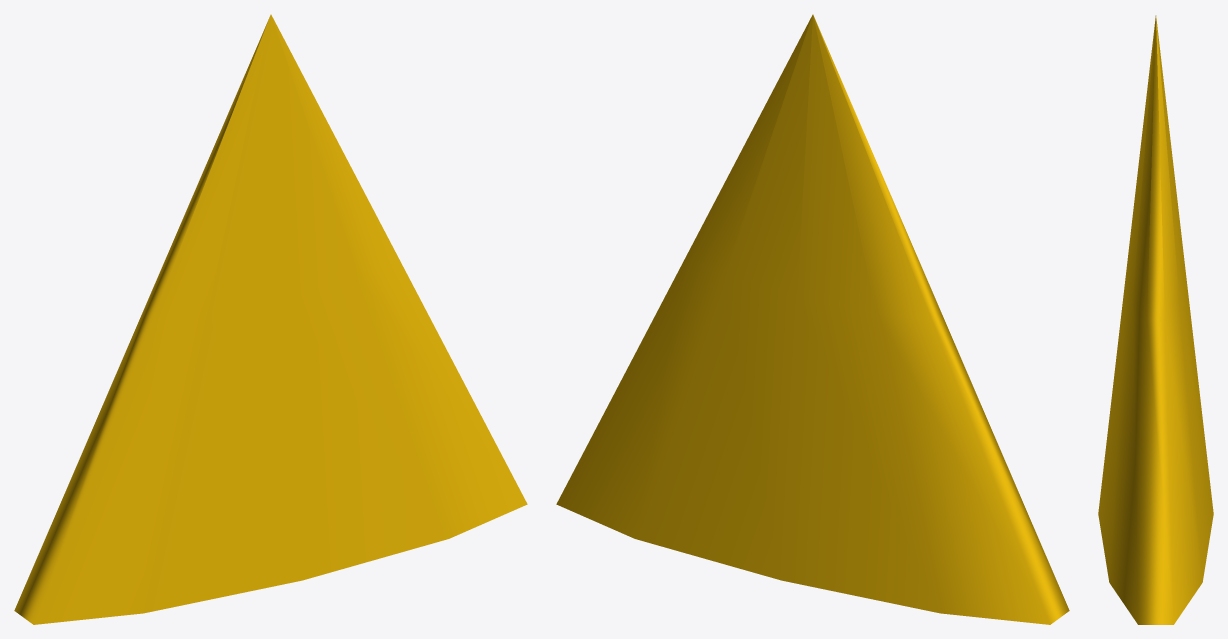
3 renders of one model, left to right at view 1: azimuth 30°, elevation 25°; view 2: azimuth 150°, elevation 25°; view 3: azimuth 270°, elevation 25°, orthographic. The views are drawn at different scales.
Parts seen in each view (by area): view 1: Cone; view 2: Cone; view 3: Cone.
Boxes of the visible parts, x1,y1,x2,y2 form: Cone: (14,14,527,624); Cone: (556,14,1069,624); Cone: (1098,15,1213,624).
Bounding box in the file's own units: 0.0951 × 0.1 × 0.0209.
